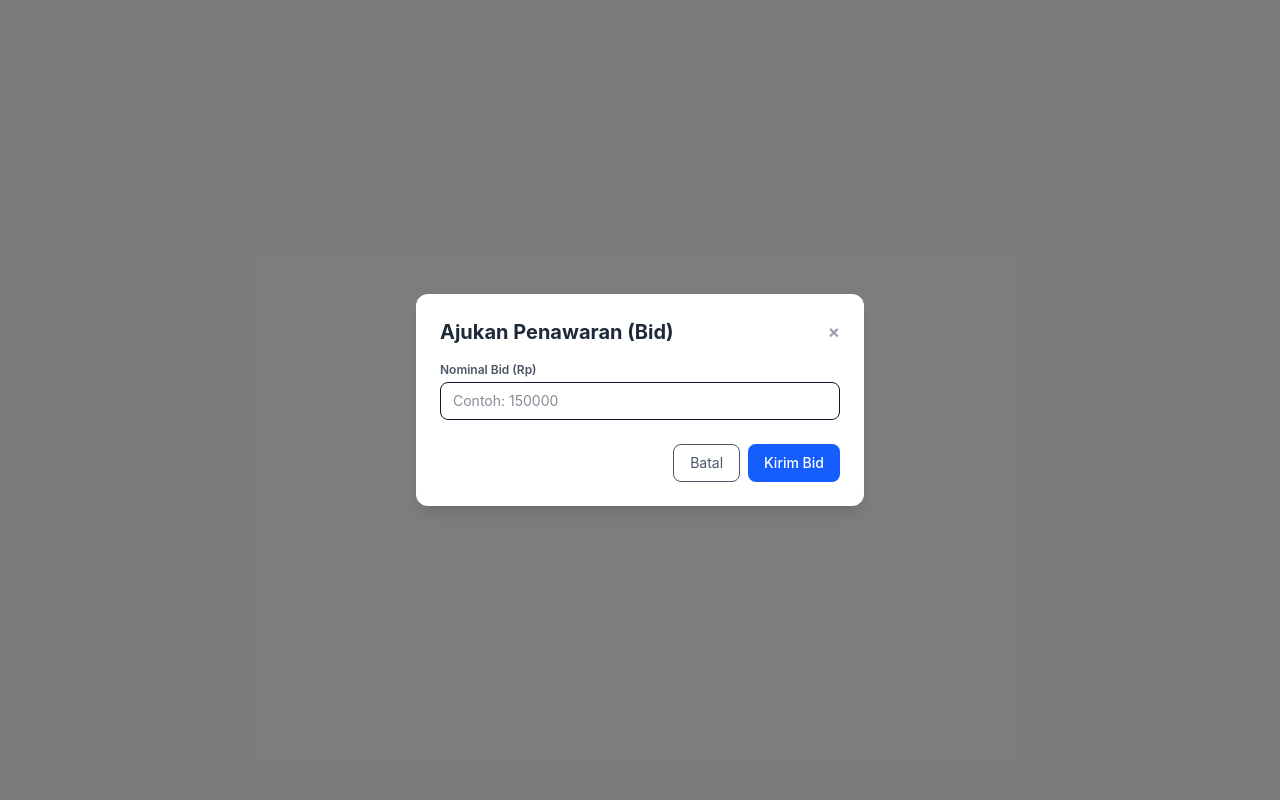
Test case: BidModal.vue › handles failure status response
The image size is (1280, 800).
In the number field labelled "Nominal Bid (Rp)": (640, 401) [440, 382, 840, 420], type "10000"
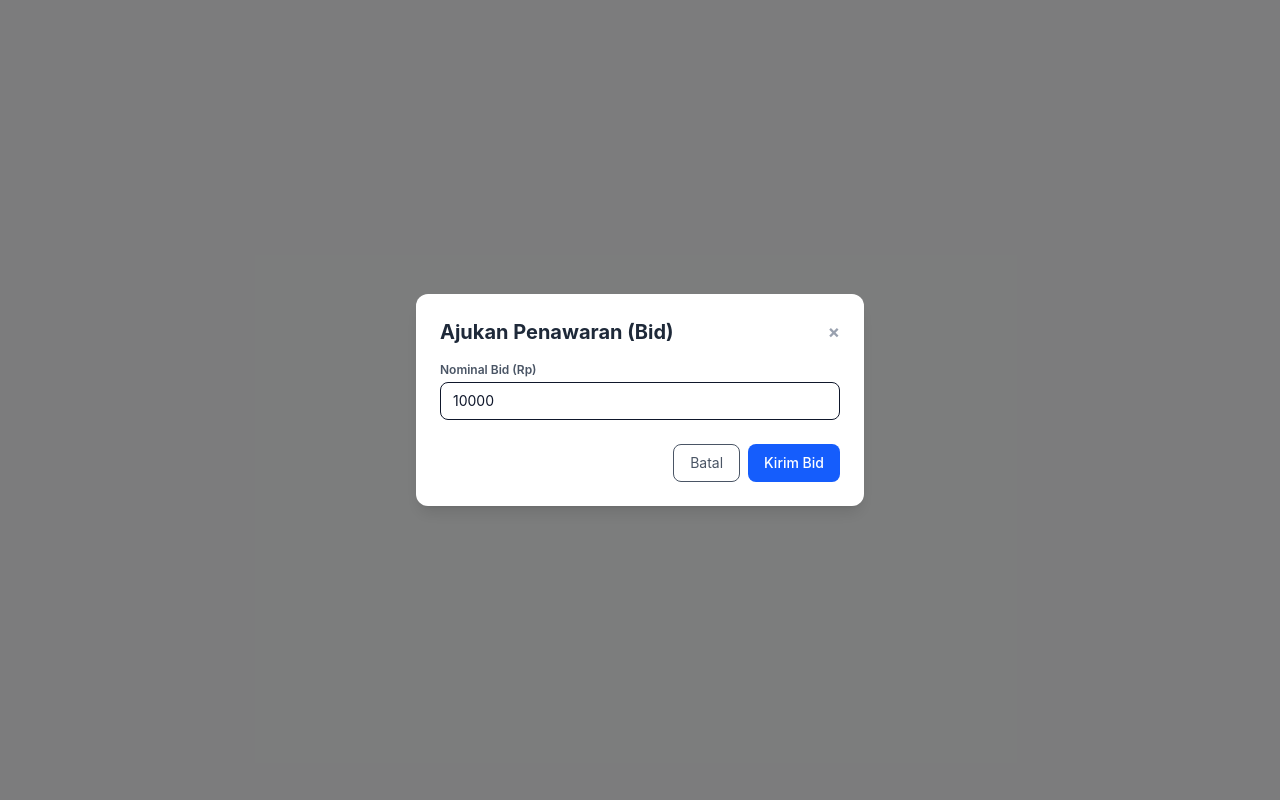
Submit the form, box [440, 362, 840, 482]
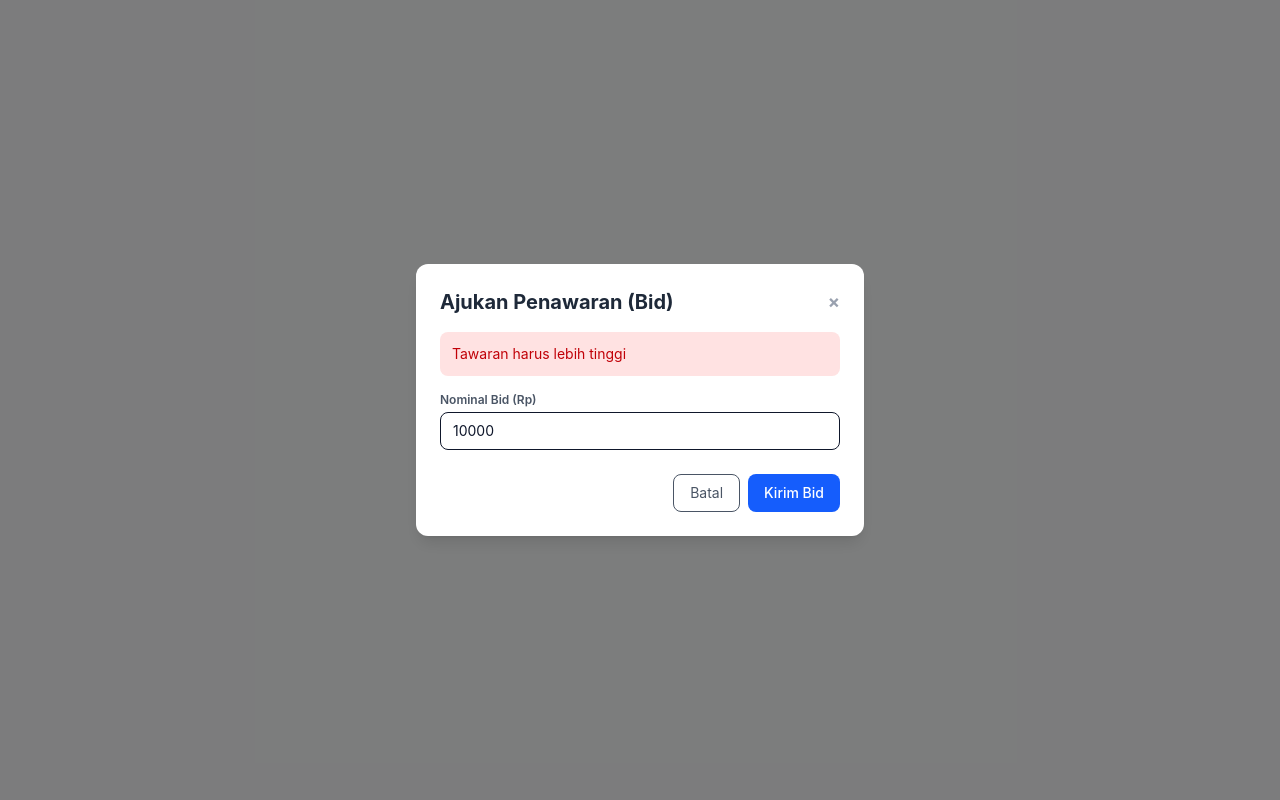
Check: the text "Tawaran harus lebih tinggi" is shown, box [440, 332, 840, 376]
